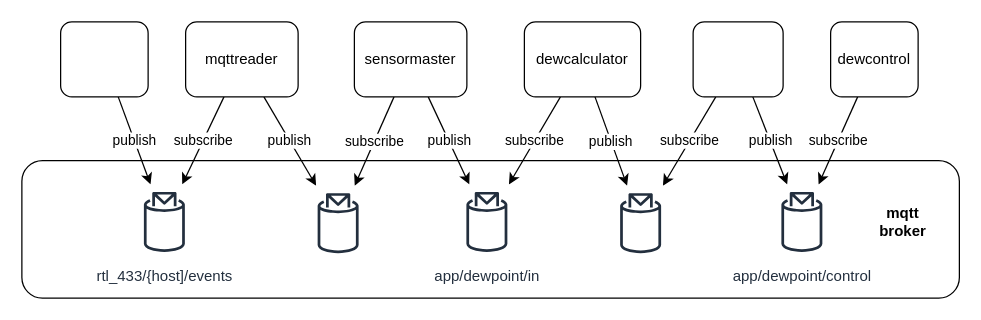
Image size: 981x320. Some labels were removed from this diagram. The shapes that lost their labels are listed below. From the top down, each one's centre as x and y in pixels, then its label:
At (103,59): "rtl_433".
At (737,59): "dewapp".
At (337,222): "app/dewpoint/sensor/in".
At (640,222): "app/dewpoint/out".
